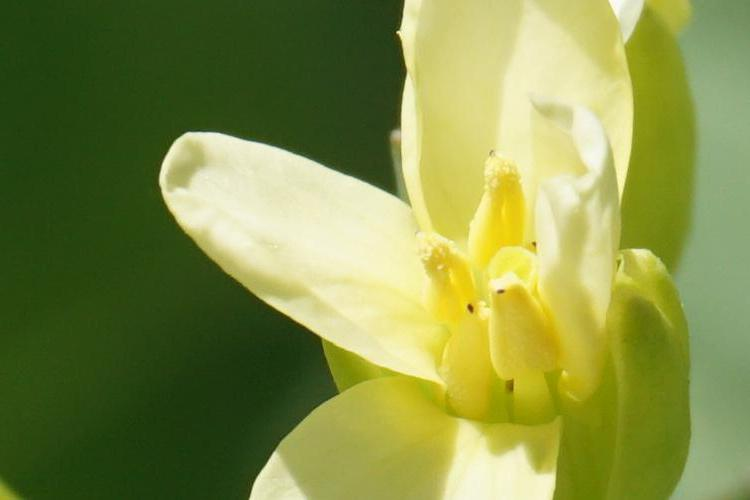white: (189, 12, 663, 424)
